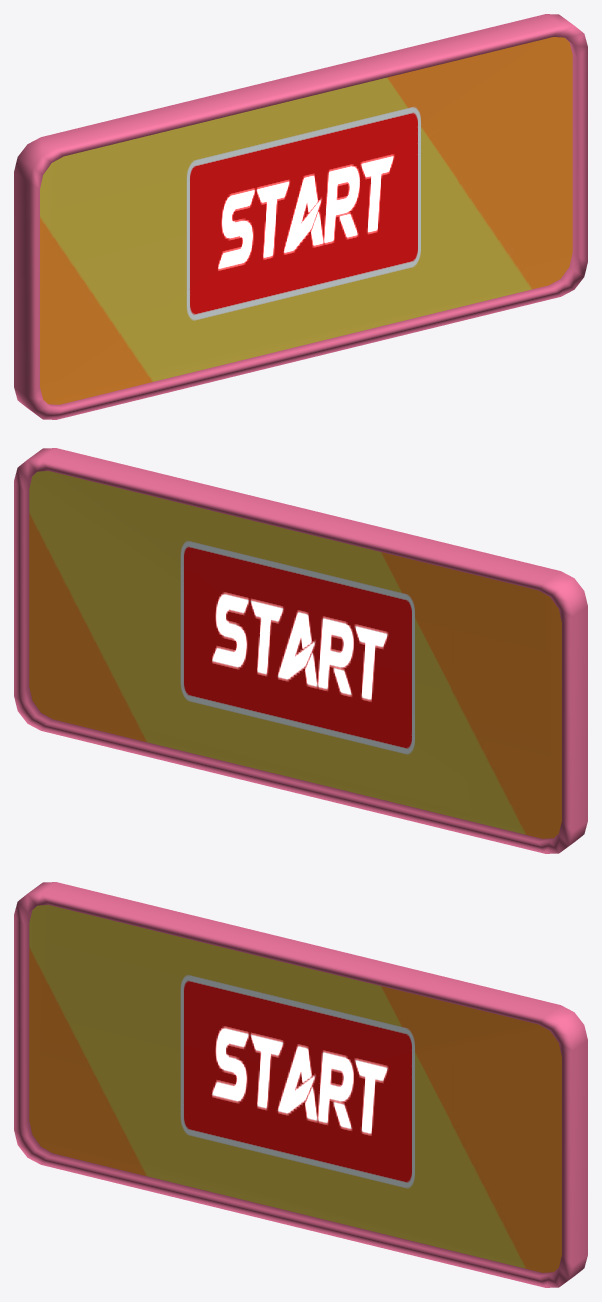
File: PLF0110004.fbx
3 renders of one model, top to bottom at view 1: azimuth 30°, elevation 25°; view 2: azimuth 150°, elevation 25°; view 3: azimuth 330°, elevation 25°, orthographic.
Visible parts, largest first — view 1: smPLF0110004; view 2: smPLF0110004; view 3: smPLF0110004.
Part boxes in pixels (box(x1,y1,x2,y2)): smPLF0110004: box(14, 14, 587, 419); smPLF0110004: box(14, 448, 587, 853); smPLF0110004: box(14, 882, 587, 1287).
Bounding box in the file's own units: 492 × 229 × 23.27.
1 material, 1 textured.
